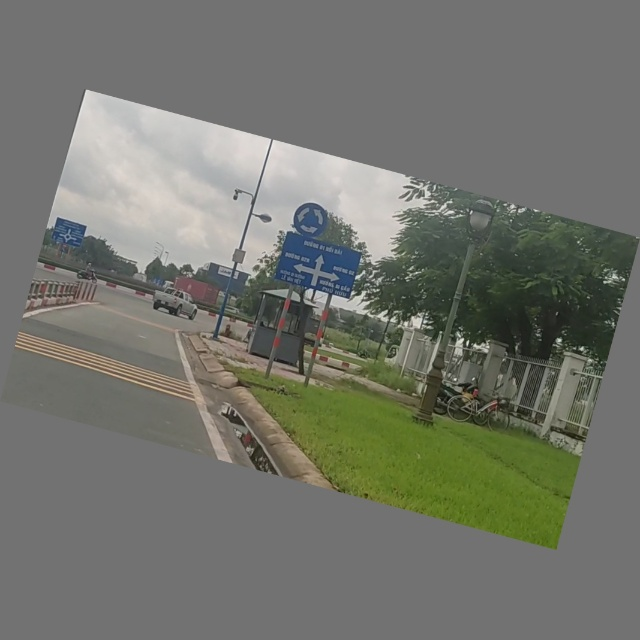R.303: (286, 196, 333, 243)
